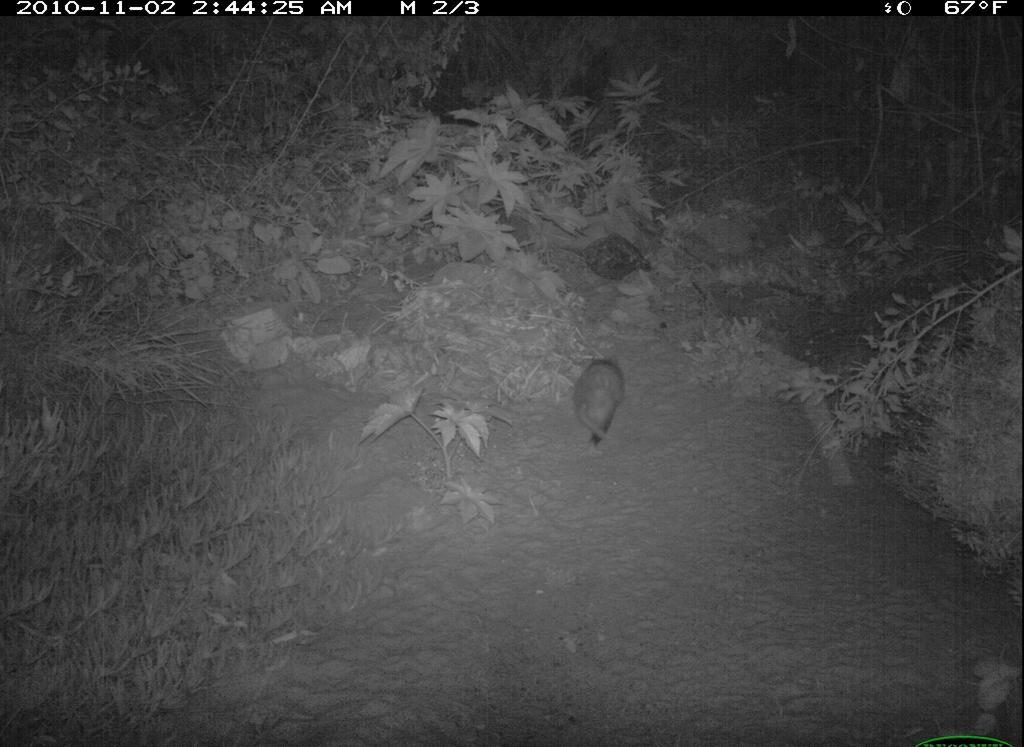opossum: (558, 325, 647, 463)
